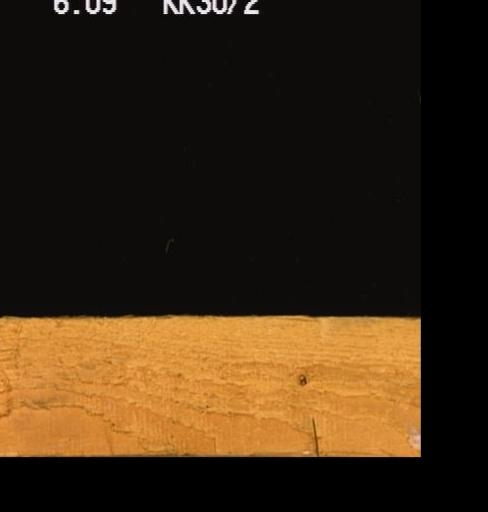dry_knot: (296, 371, 306, 386)
